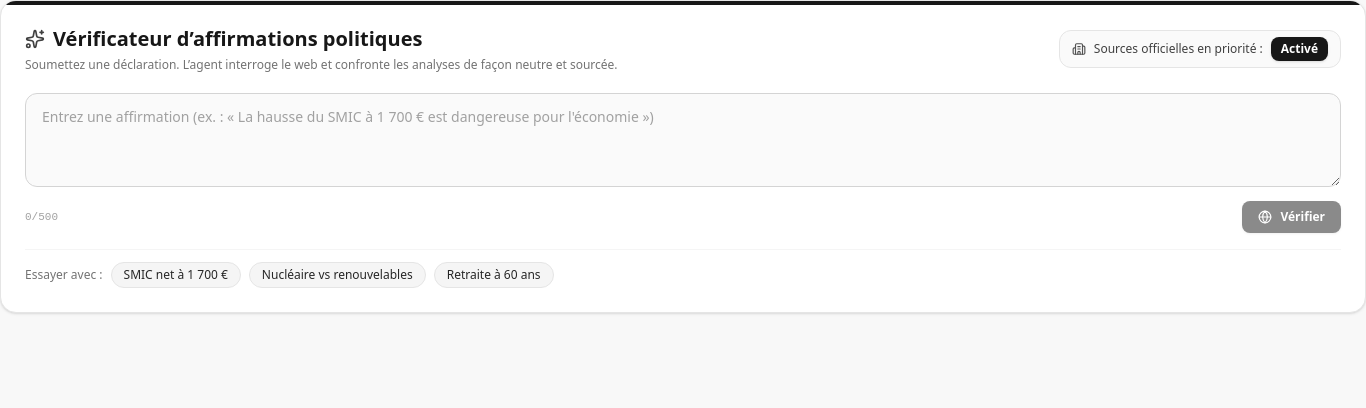
CheckPage › affiche l’erreur du serveur (limite quotidienne) dans une alerte et ne montre pas d’ancien résultat
Step 1. Type "Une affirmation suffisamment longue." into the text box labelled "affirmation" → (683, 140), box [25,93,1341,187]
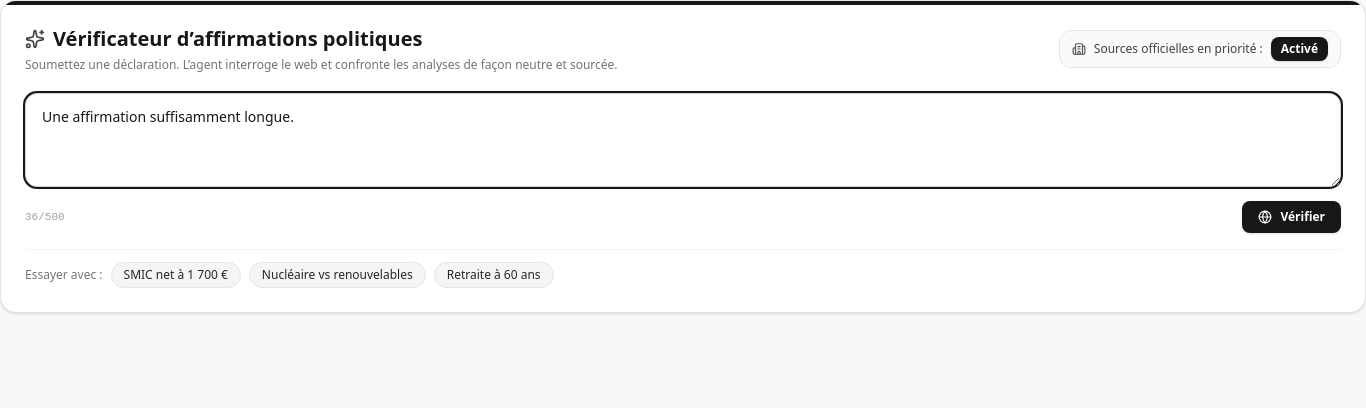
Step 2. Click the button "Vérifier" → (1292, 217), box [1242,201,1341,233]
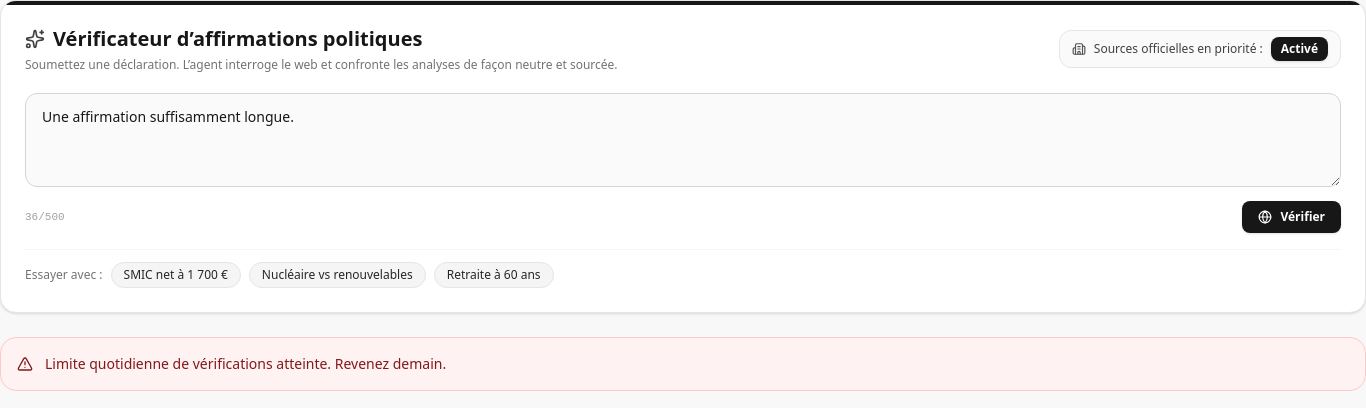
Expected: the message shows "Limite quotidienne", [45,354,446,373]
